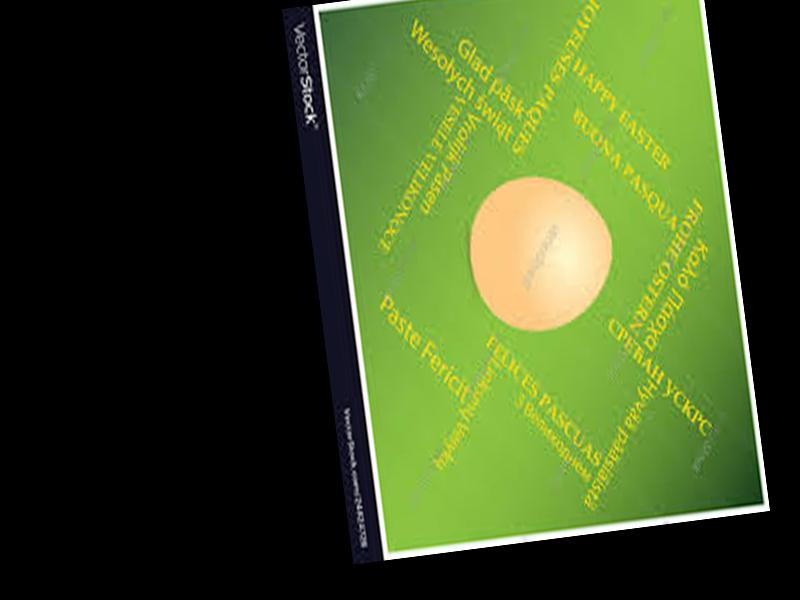Eggs: (462, 169, 618, 339)
